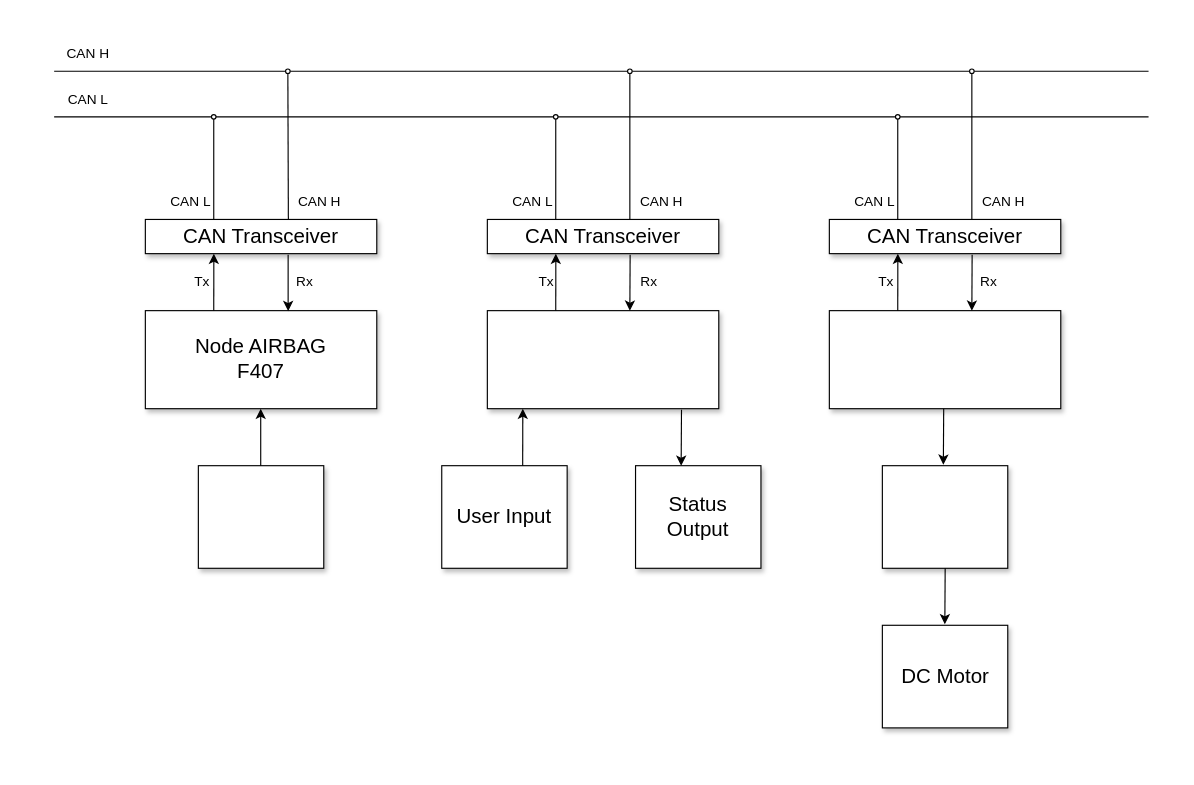
The diagram is 1194 pixels wide and 785 high, and some of its shapes have lost their labels. The shapes that lost their labels are listed below. From the top down, each one's centre as x and y in pixels, then its label:
At point 604,361: "Node MAIN F446RE".
At point 946,361: "Node ABS F103".
At point 262,518: "Sensor".
At point 946,518: "L298N driver".
